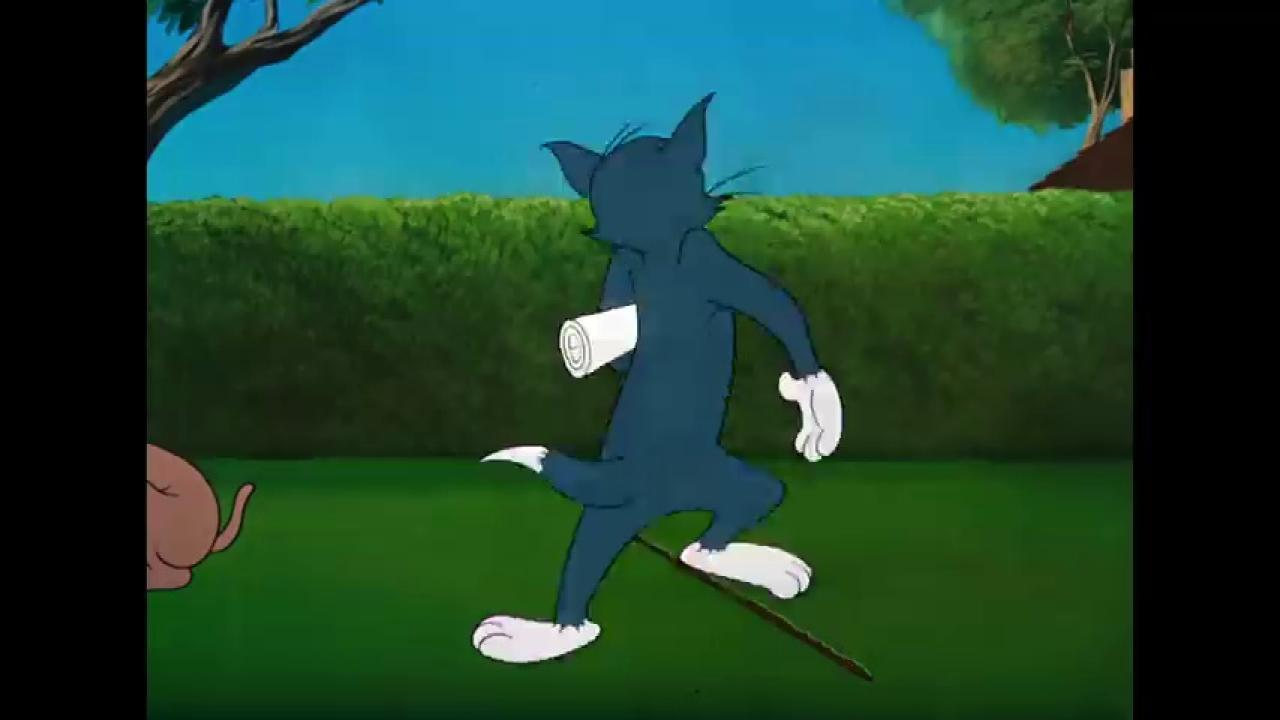Tom: (469, 88, 845, 667)
